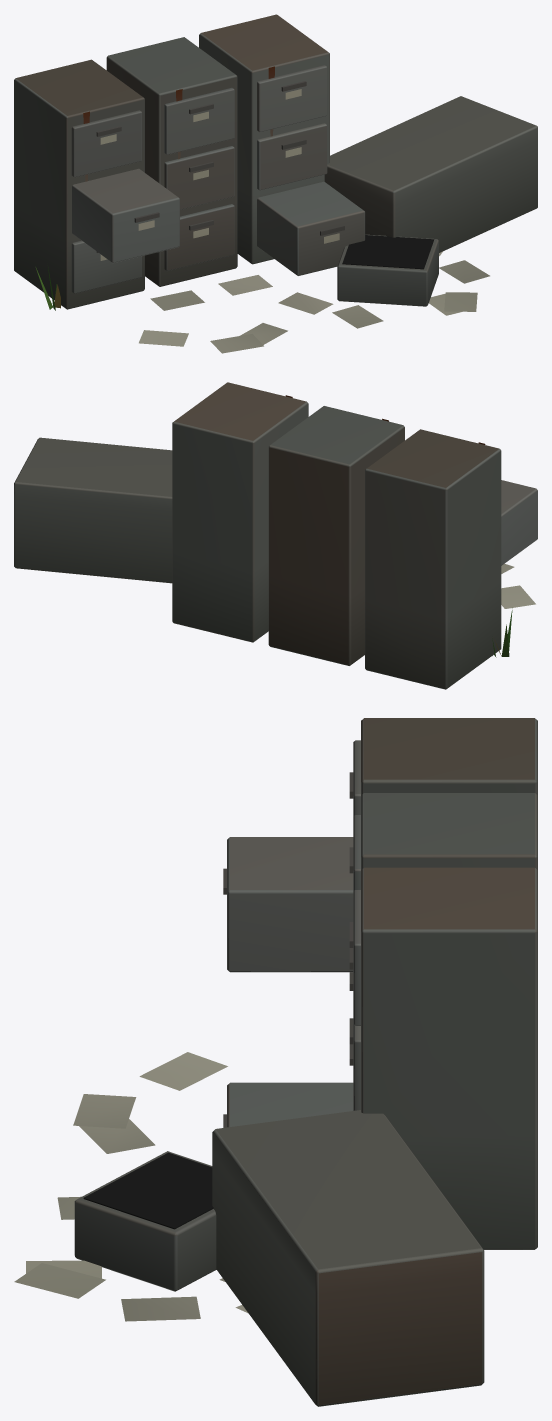
The model's file is filing_cabinets.glb.
The picture shows the model from 3 angles, top to bottom: view 1: azimuth 30°, elevation 25°; view 2: azimuth 150°, elevation 25°; view 3: azimuth 270°, elevation 25°; orthographic projection. The views are drawn at different scales.
Parts seen in each view (by area): view 1: Mesh; view 2: Mesh; view 3: Mesh.
Boxes of the visible parts, box(x1,y1,x2,y2) form: Mesh: box(14, 14, 537, 353); Mesh: box(14, 382, 537, 689); Mesh: box(14, 718, 537, 1406).
Bounding box in the file's own units: 3.6 × 1.4 × 2.07.
